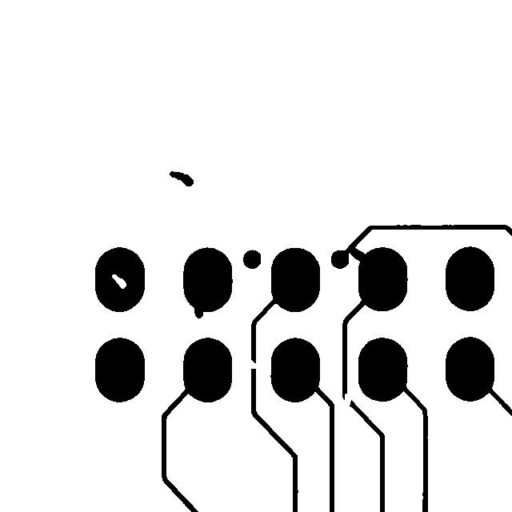copper: (162, 163, 201, 194)
open: (239, 351, 268, 376), (337, 386, 358, 413)
pin-hole: (104, 266, 134, 296)
short: (342, 238, 372, 270)
spur: (186, 298, 210, 326)
